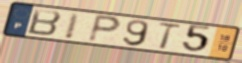5: (181, 24, 214, 55)
9: (121, 19, 151, 47)
B: (26, 7, 64, 37)
I: (63, 12, 83, 41)
P: (86, 13, 123, 44)
T: (156, 21, 183, 51)
